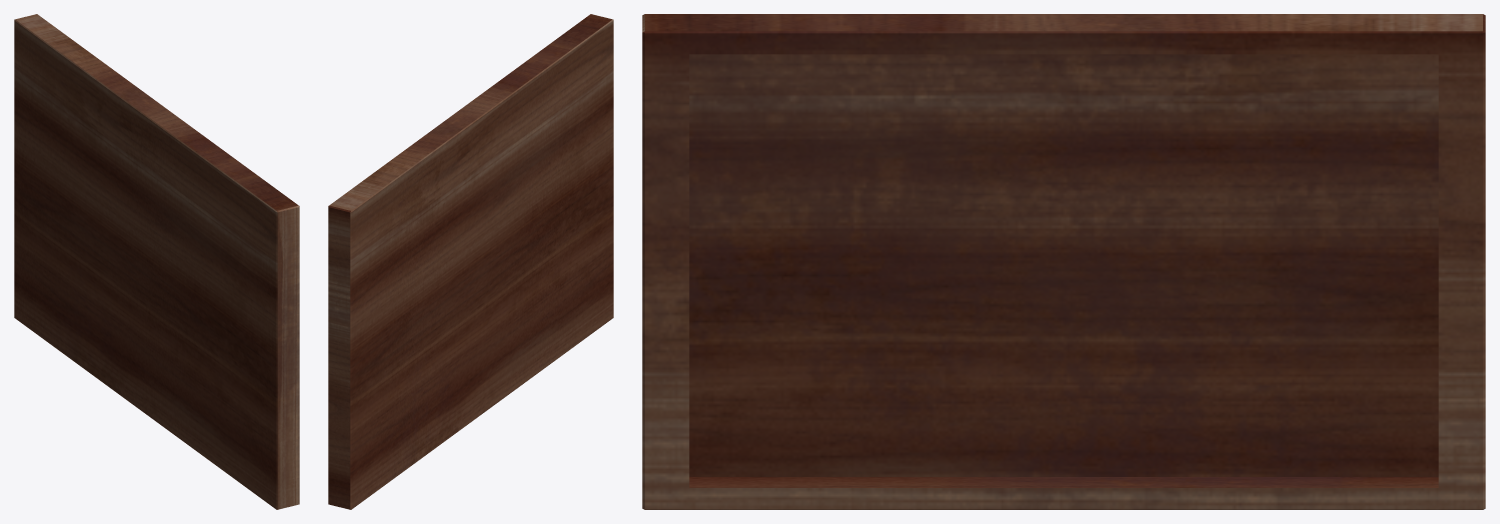
File: frame2.FBX
The picture shows the model from 3 angles, left to right: view 1: azimuth 30°, elevation 25°; view 2: azimuth 150°, elevation 25°; view 3: azimuth 270°, elevation 25°; orthographic projection. The views are drawn at different scales.
Visible parts, largest first — view 1: frame004; view 2: frame004; view 3: frame004.
Boxes of the visible parts, bbox=[...] form: frame004: bbox=[14, 14, 299, 509]; frame004: bbox=[328, 14, 613, 509]; frame004: bbox=[642, 14, 1485, 509].
Size of the model in its own units: 14.28 by 173 by 276.
